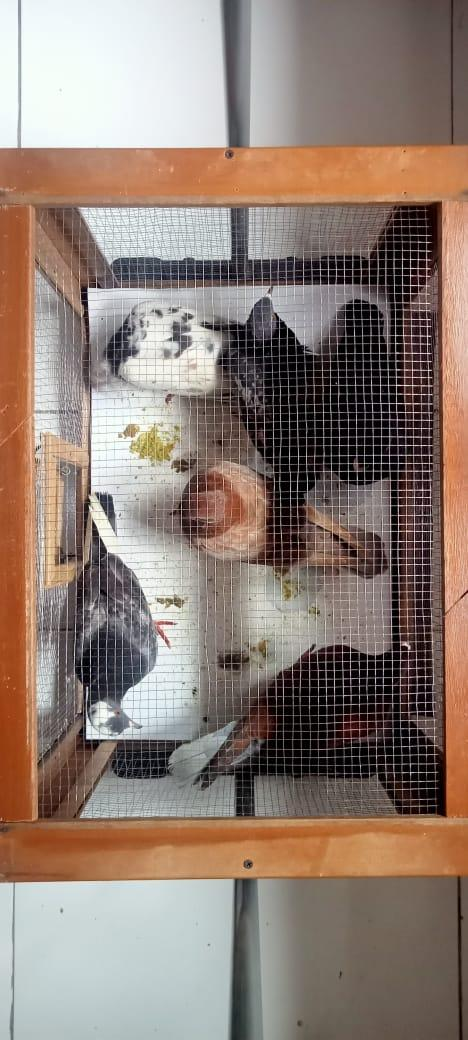Merpati: (171, 635, 412, 794), (168, 462, 389, 580), (222, 284, 325, 495), (71, 492, 159, 736), (87, 301, 247, 406), (321, 298, 401, 487)
